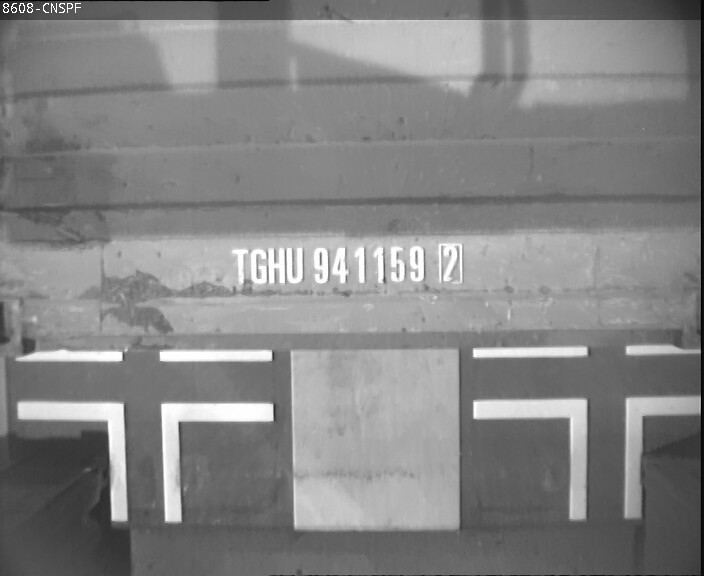groundmarker_1: (21, 402, 272, 523), (471, 400, 704, 517)
